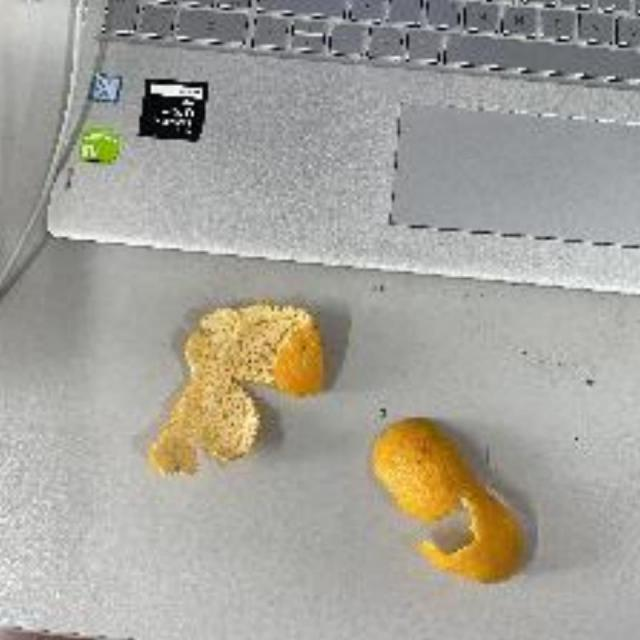orange peel: (147, 304, 330, 486), (368, 410, 530, 586)
